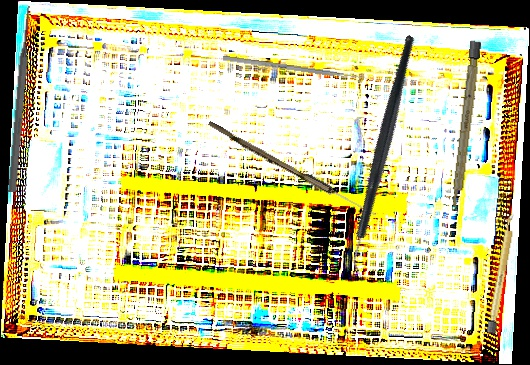Chopper: (279, 34, 492, 283)
Pusher: (6, 5, 35, 193), (222, 55, 373, 82)
Scalpel Handle: (449, 39, 482, 214), (486, 212, 517, 335)
Surgical Spoon: (206, 120, 378, 219)
